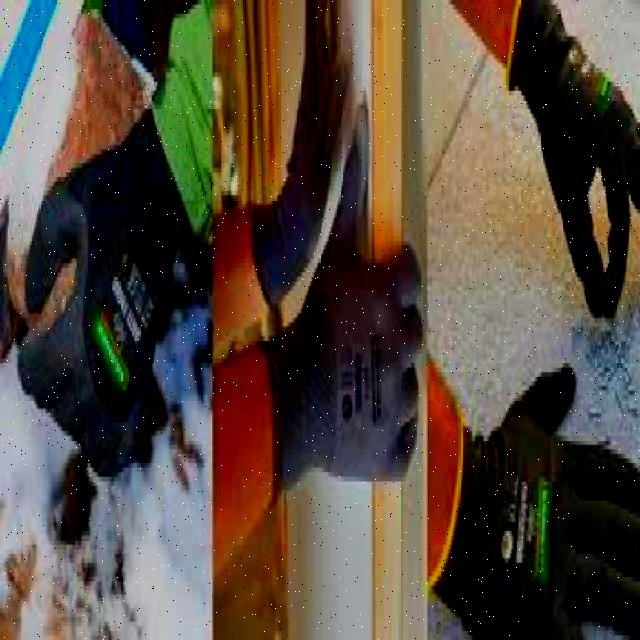Gloves: (18, 132, 191, 478), (279, 125, 421, 542), (450, 344, 638, 636), (503, 0, 639, 326)
